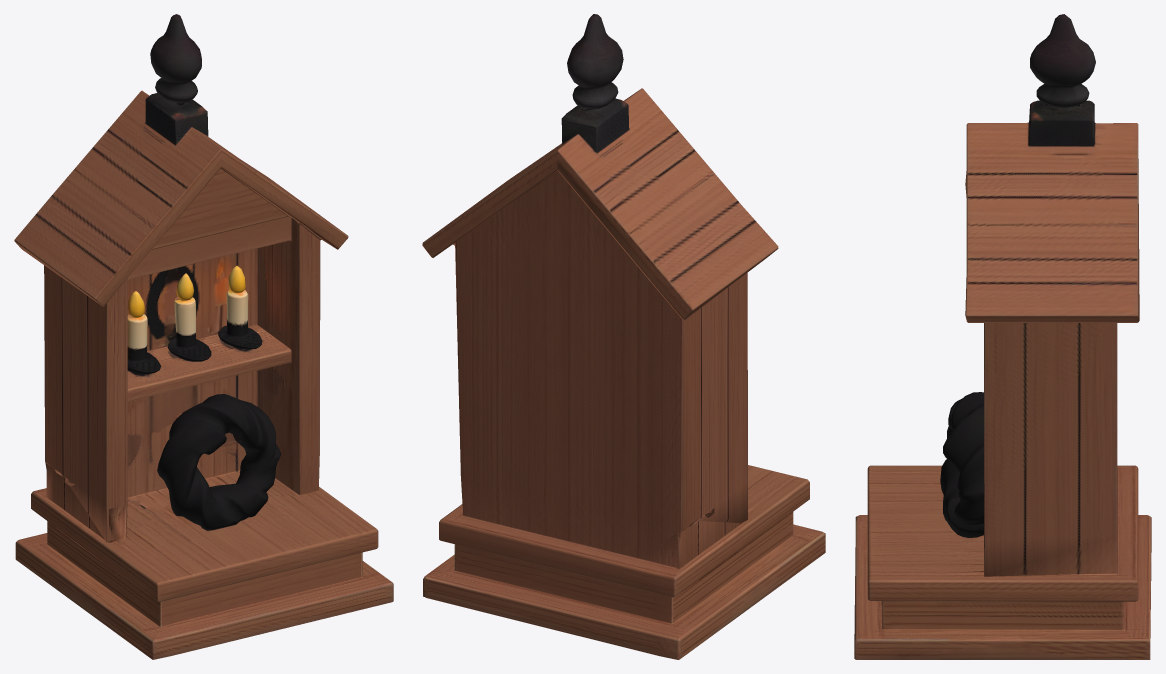
The model's file is checkpoint_shrine.glb.
3 renders of one model, left to right at view 1: azimuth 30°, elevation 25°; view 2: azimuth 150°, elevation 25°; view 3: azimuth 270°, elevation 25°, orthographic. The views are drawn at different scales.
Size of the model in its own units: 0.9276 by 1.91 by 0.8806.
Materials: 1 (1 with a texture image).
